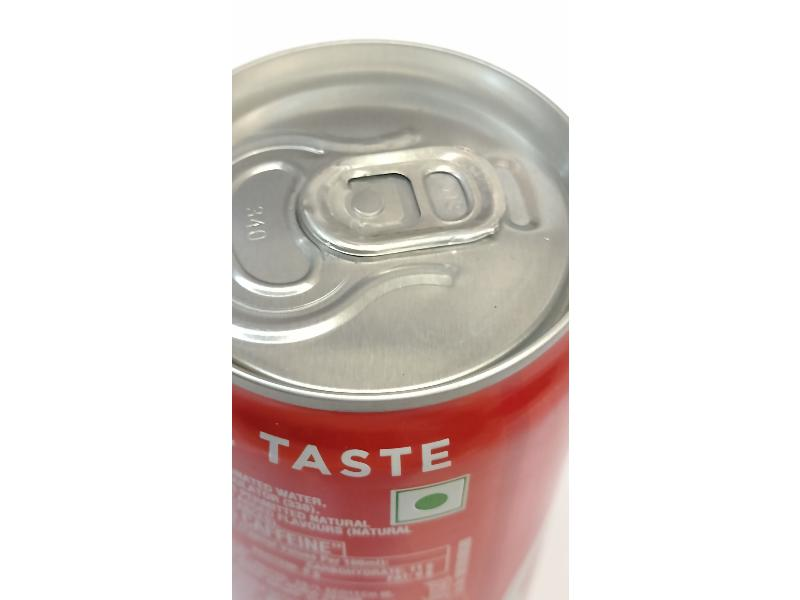can: (227, 31, 568, 599)
